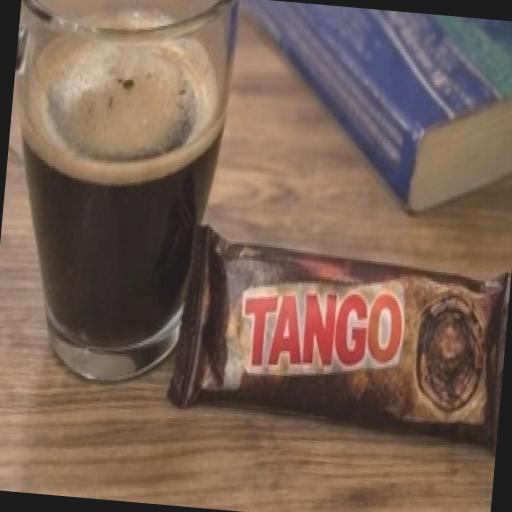tango: (123, 115, 512, 494)
